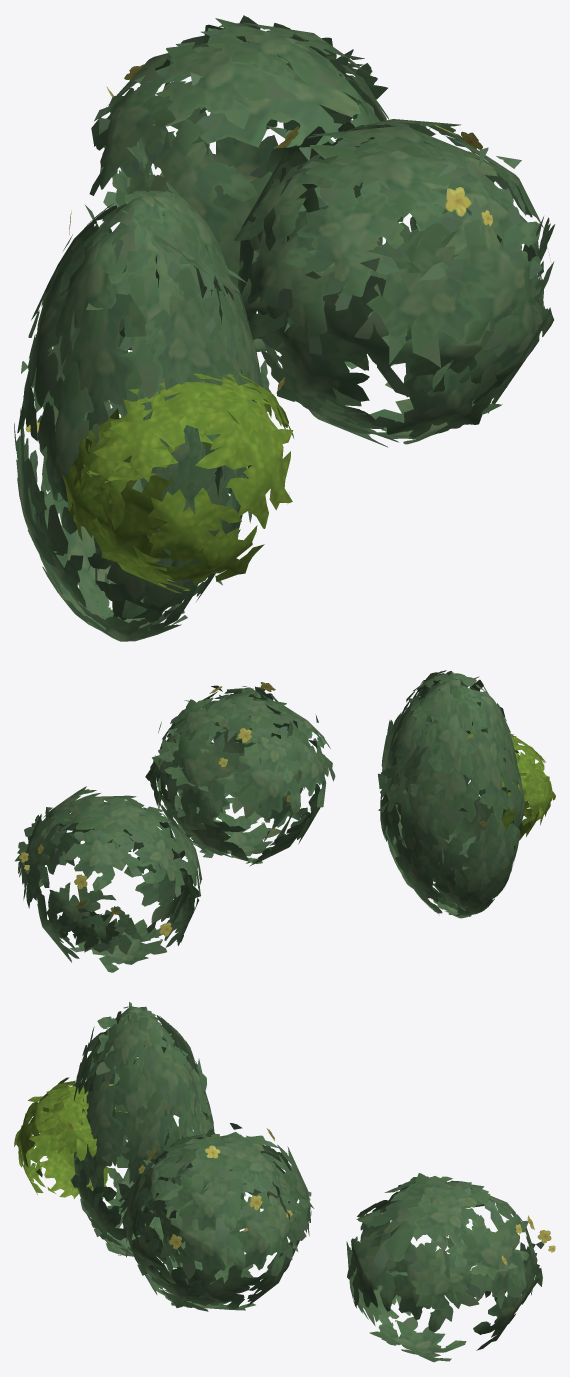
File: pref_sm_beach_bk_pointmol_grassplant03a_lv1.fbx
3 views of the same model, one above another, from view 1: azimuth 30°, elevation 25°; view 2: azimuth 150°, elevation 25°; view 3: azimuth 270°, elevation 25° (orthographic). The views are drawn at different scales.
Parts seen in each view (by area): view 1: pref_sm_beach_bk_pointmol_grassplant03a_lv1; view 2: pref_sm_beach_bk_pointmol_grassplant03a_lv1; view 3: pref_sm_beach_bk_pointmol_grassplant03a_lv1.
Part boxes in pixels (<box>): pref_sm_beach_bk_pointmol_grassplant03a_lv1: <box>14,15,555,641</box>; pref_sm_beach_bk_pointmol_grassplant03a_lv1: <box>15,670,555,972</box>; pref_sm_beach_bk_pointmol_grassplant03a_lv1: <box>14,1002,555,1362</box>.
Size of the model in its own units: 8.34 by 5.51 by 10.77.
